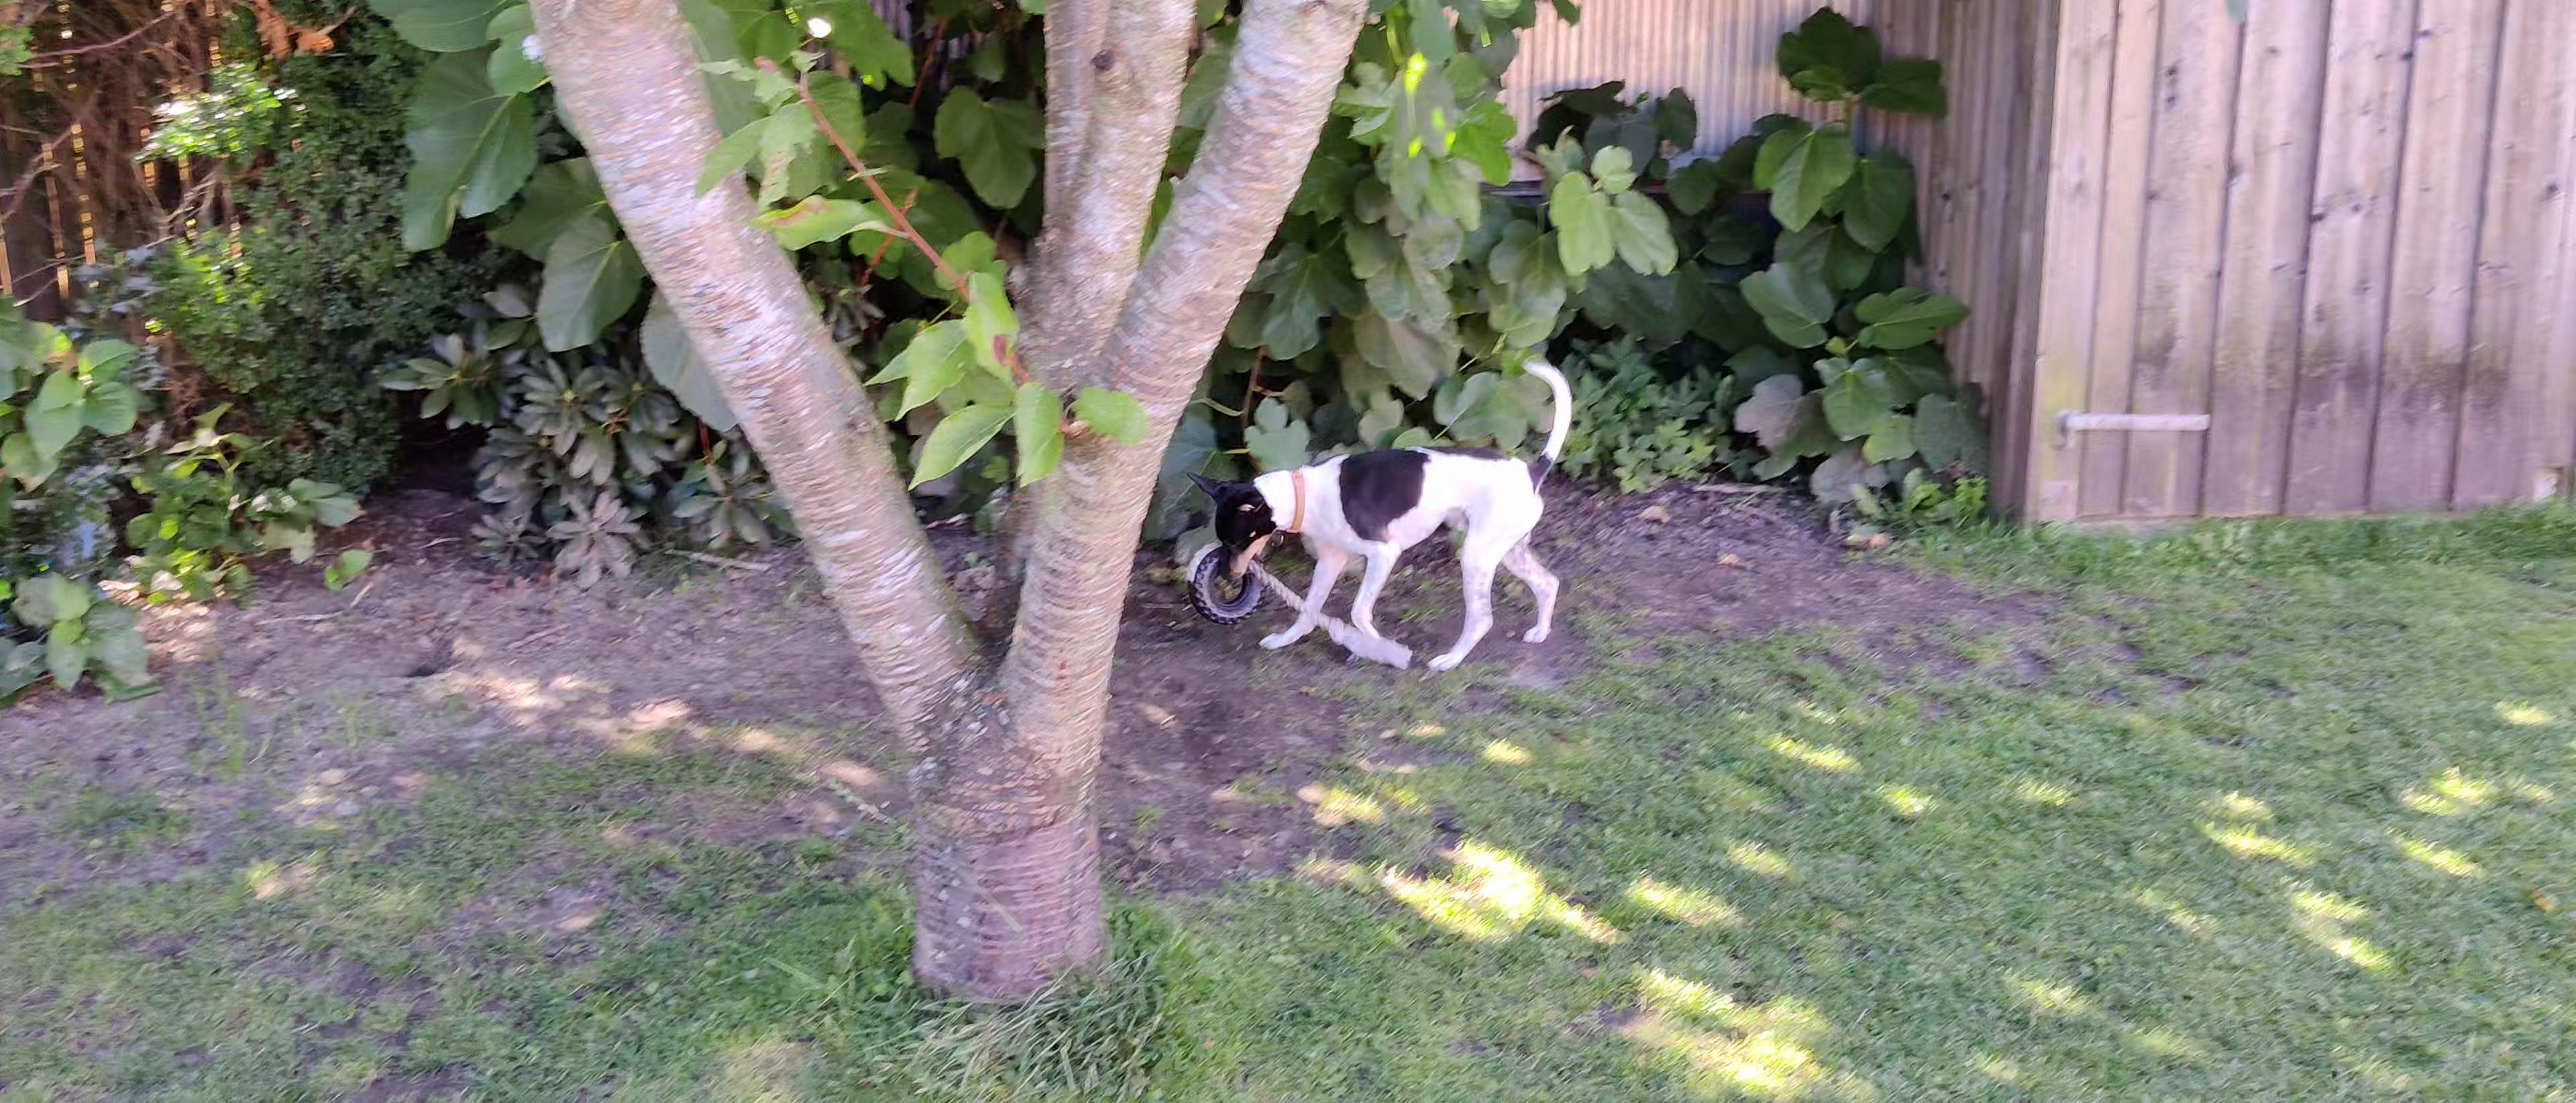Dog: (1186, 350, 1577, 676)
